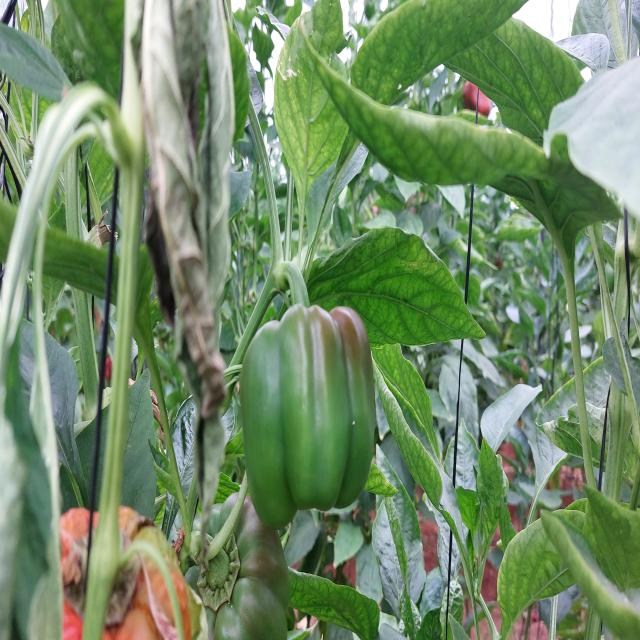Green--Not-ready-to-harvest: (240, 321, 378, 520), (160, 505, 294, 640)
